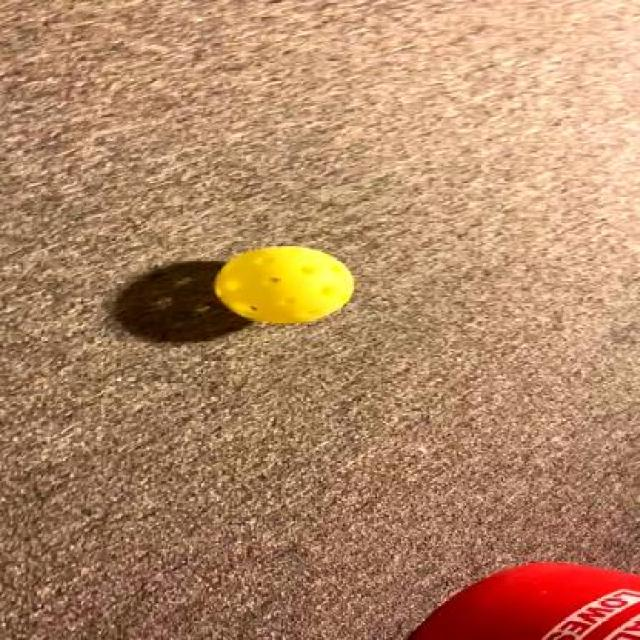ball: (211, 245, 356, 322)
